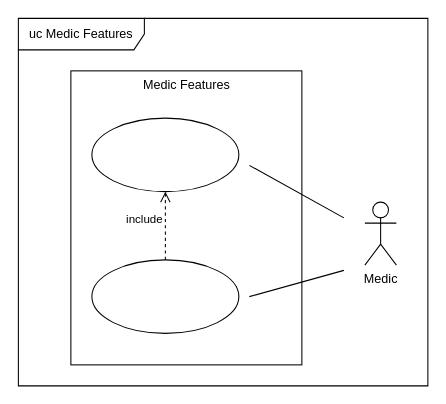
Image size: 446x404. Some labels were removed from this diagram. The centre of each missing label's shape, as x and y in pixels:
"Analyse patient's historical data" belongs at point 165,296.
"Get access to user data" belongs at point 165,154.
